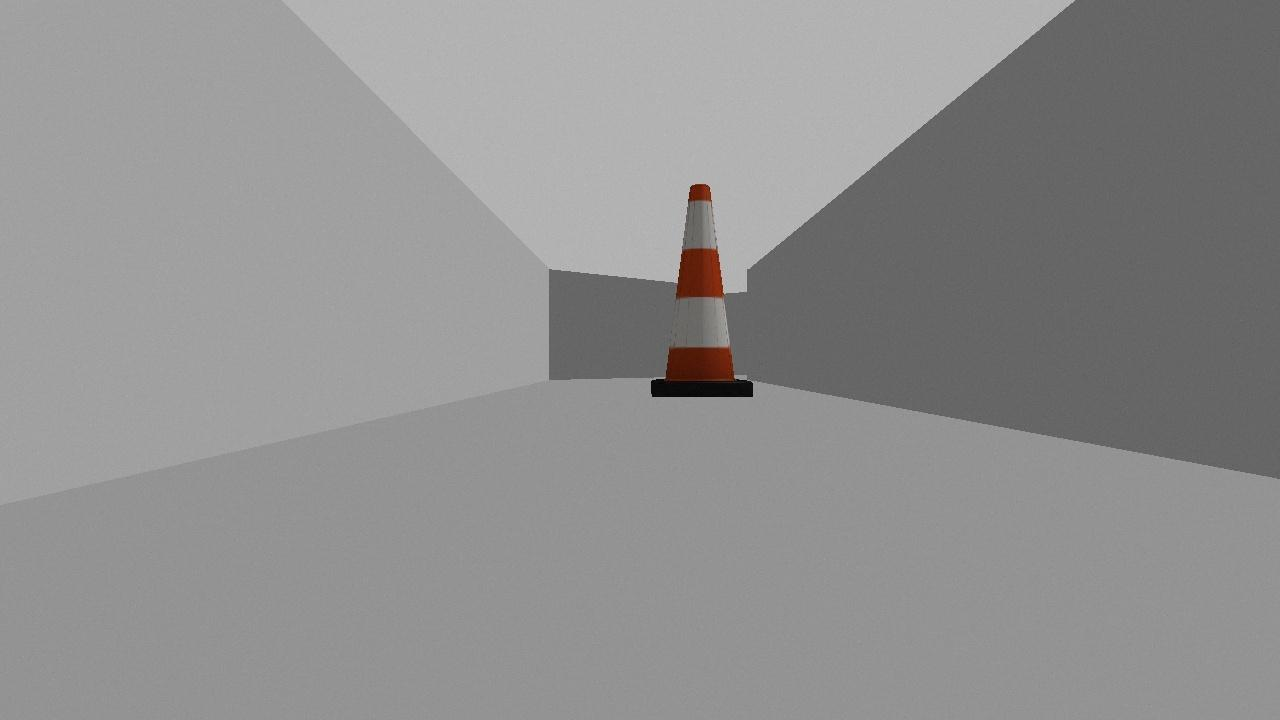cone_barrel: (649, 181, 752, 396)
